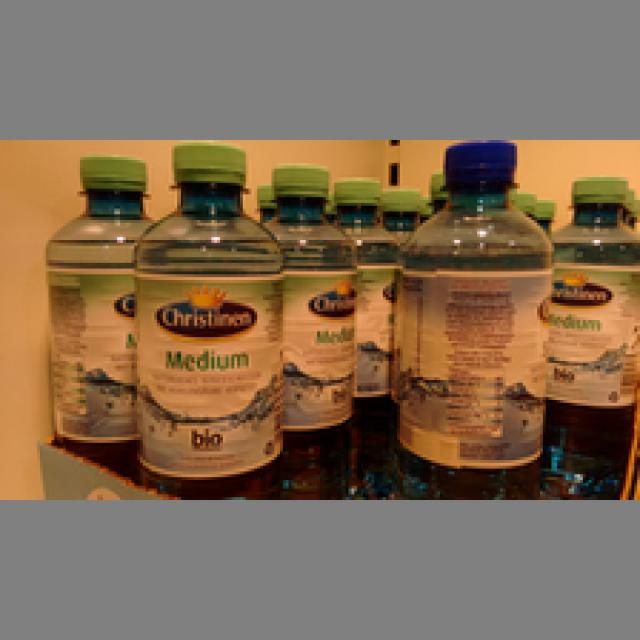groceries: (377, 137, 552, 497), (131, 140, 280, 494), (40, 152, 154, 454), (254, 163, 354, 491), (540, 172, 634, 488)
